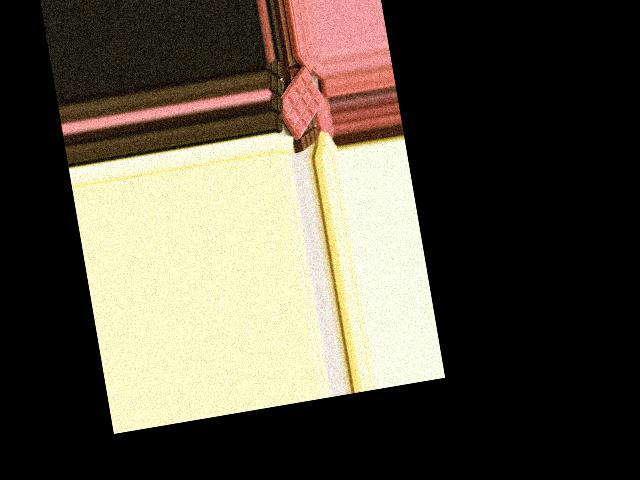chocolate: (264, 63, 331, 141)
